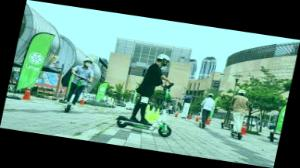helmet: (113, 48, 190, 140), (60, 54, 100, 117), (222, 87, 256, 142), (194, 91, 219, 130)
